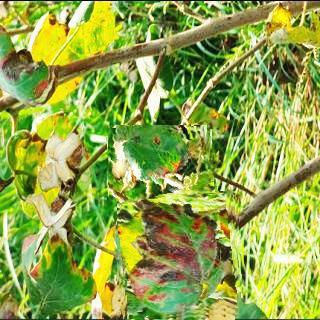blight: (117, 193, 242, 318), (108, 124, 215, 203)
